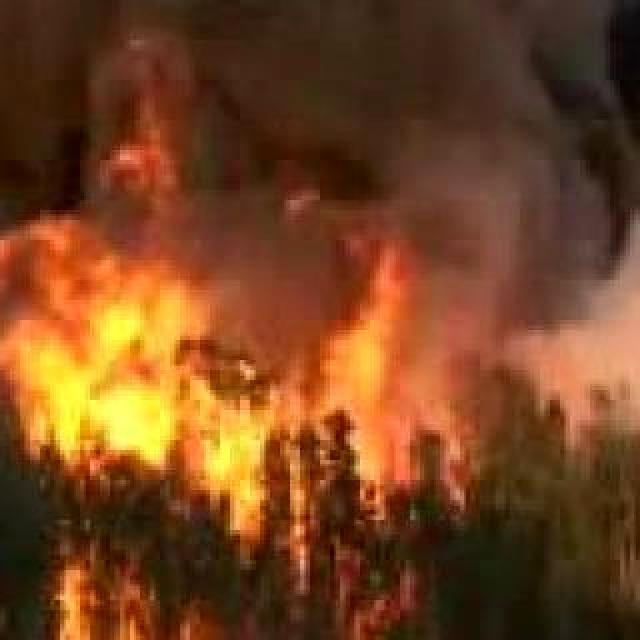fire: (0, 130, 554, 640)
